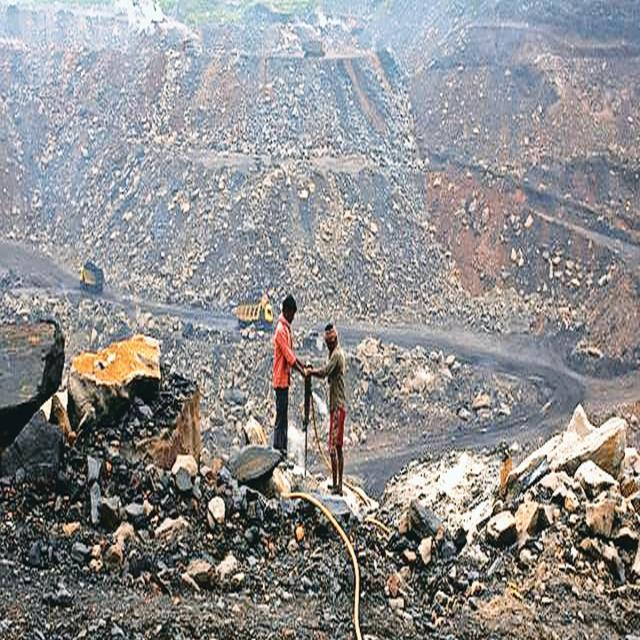dump_truck: (234, 292, 272, 336), (80, 262, 104, 295)
